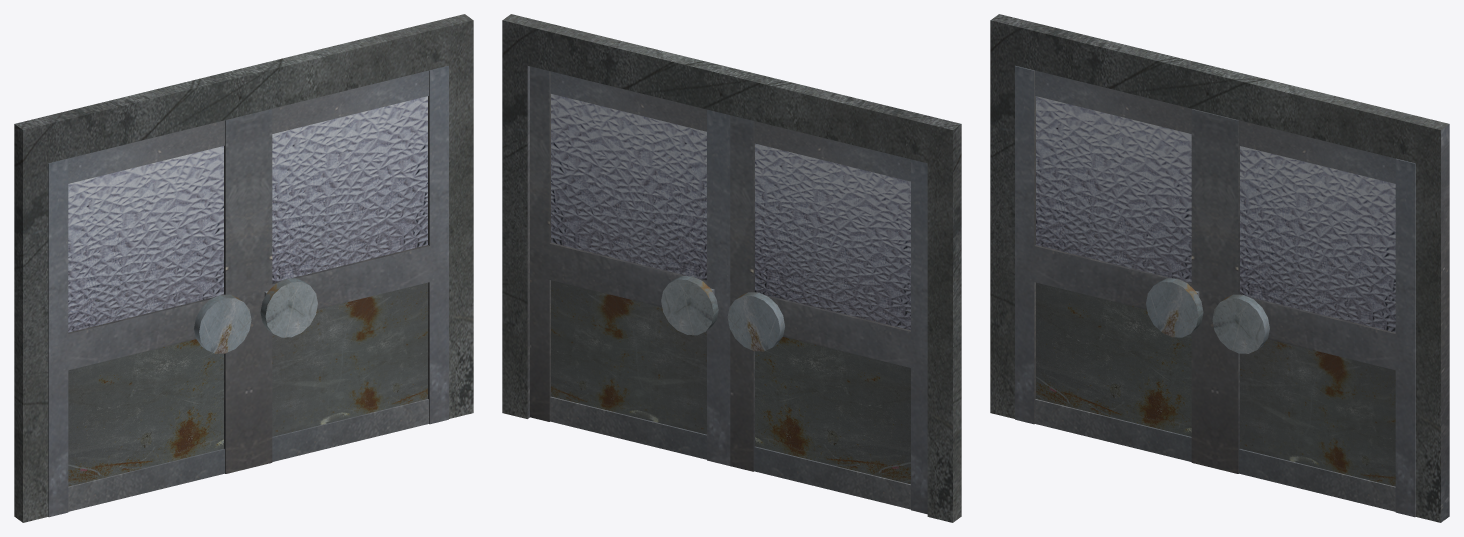
Rendered from ReEntranceDoor.fbx.
3 views of the same model, side by side, from view 1: azimuth 30°, elevation 25°; view 2: azimuth 150°, elevation 25°; view 3: azimuth 330°, elevation 25° (orthographic).
Parts seen in each view (by area): view 1: E_Door1, E_Door2, E_Flame; view 2: E_Door2, E_Door1, E_Flame; view 3: E_Door2, E_Door1, E_Flame.
Part boxes in pixels (x1,y1,x2,y2): E_Door1: (48, 114, 251, 517); E_Door2: (248, 65, 448, 468); E_Flame: (14, 14, 473, 522); E_Door2: (530, 66, 730, 465); E_Door1: (727, 115, 927, 514); E_Flame: (502, 14, 961, 522); E_Door2: (1212, 114, 1415, 517); E_Door1: (1015, 65, 1215, 468); E_Flame: (990, 14, 1449, 522).
Size of the model in its own units: 360 by 300 by 35.91.
